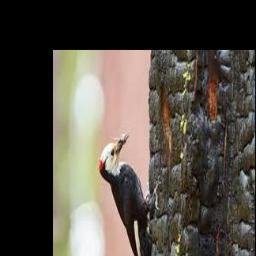Woodpecker: (100, 130, 161, 256)
